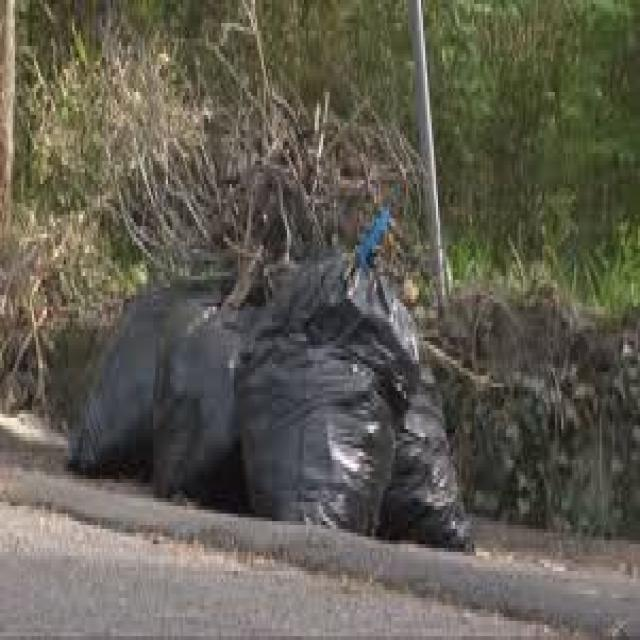garbage: (57, 203, 468, 552)
